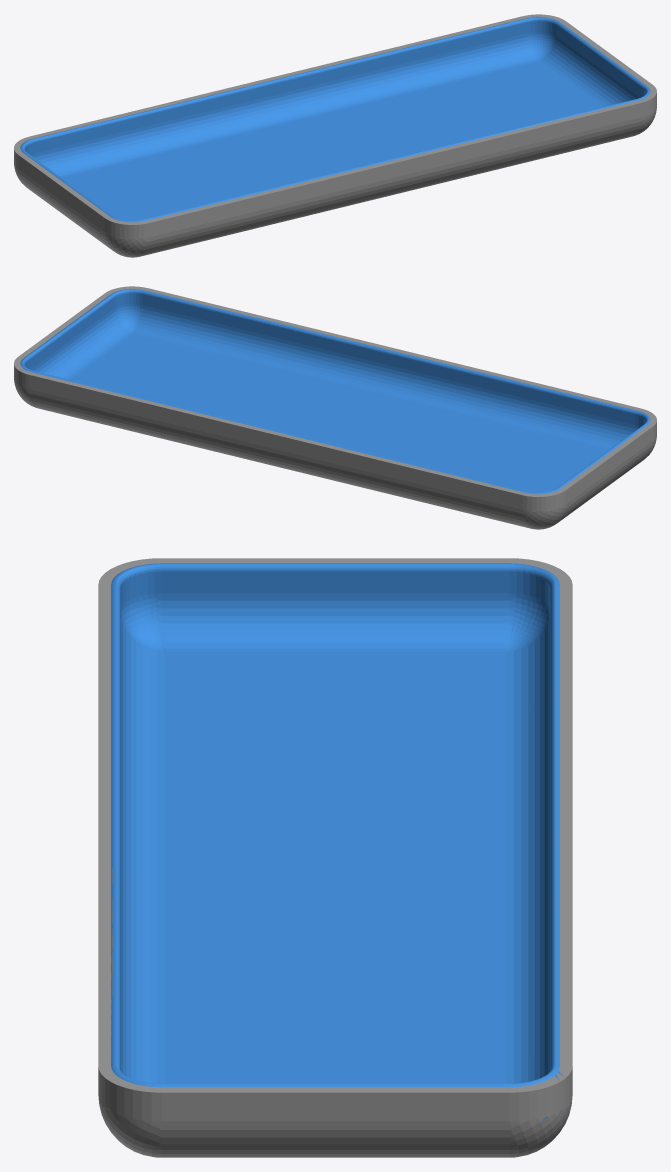
The model's file is Conrete_Dish.glb.
3 renders of one model, top to bottom at view 1: azimuth 30°, elevation 25°; view 2: azimuth 150°, elevation 25°; view 3: azimuth 270°, elevation 25°, orthographic. The views are drawn at different scales.
Parts seen in each view (by area): view 1: Long Concrete Serving Bowl; view 2: Long Concrete Serving Bowl; view 3: Long Concrete Serving Bowl.
Part boxes in pixels (bbox=[...]): Long Concrete Serving Bowl: bbox=[14, 14, 656, 257]; Long Concrete Serving Bowl: bbox=[14, 286, 656, 529]; Long Concrete Serving Bowl: bbox=[98, 558, 572, 1157].
Size of the model in its own units: 200 by 17.25 by 75.
